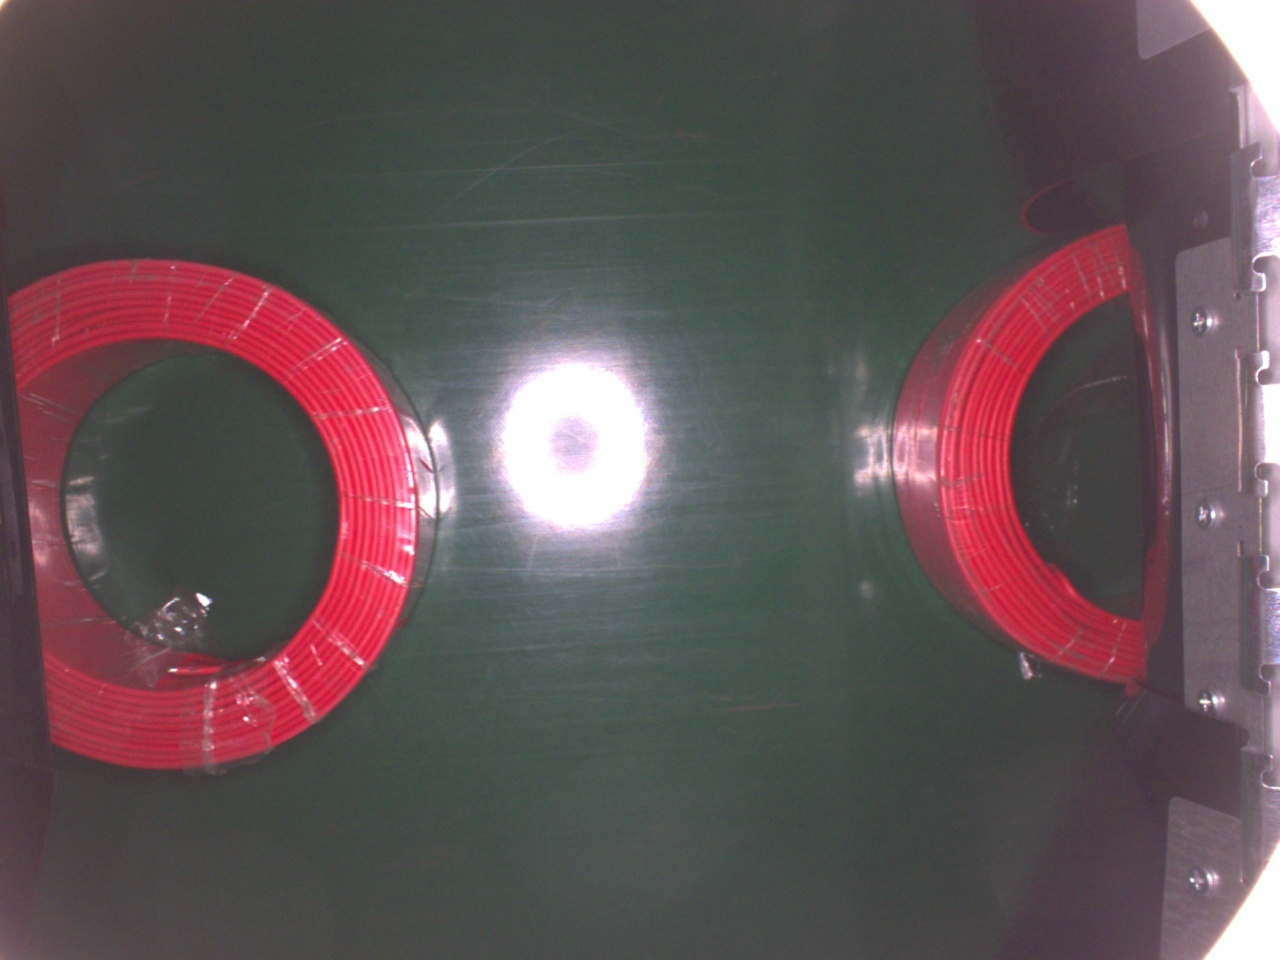red: (0, 255, 437, 774), (884, 218, 1156, 688)
